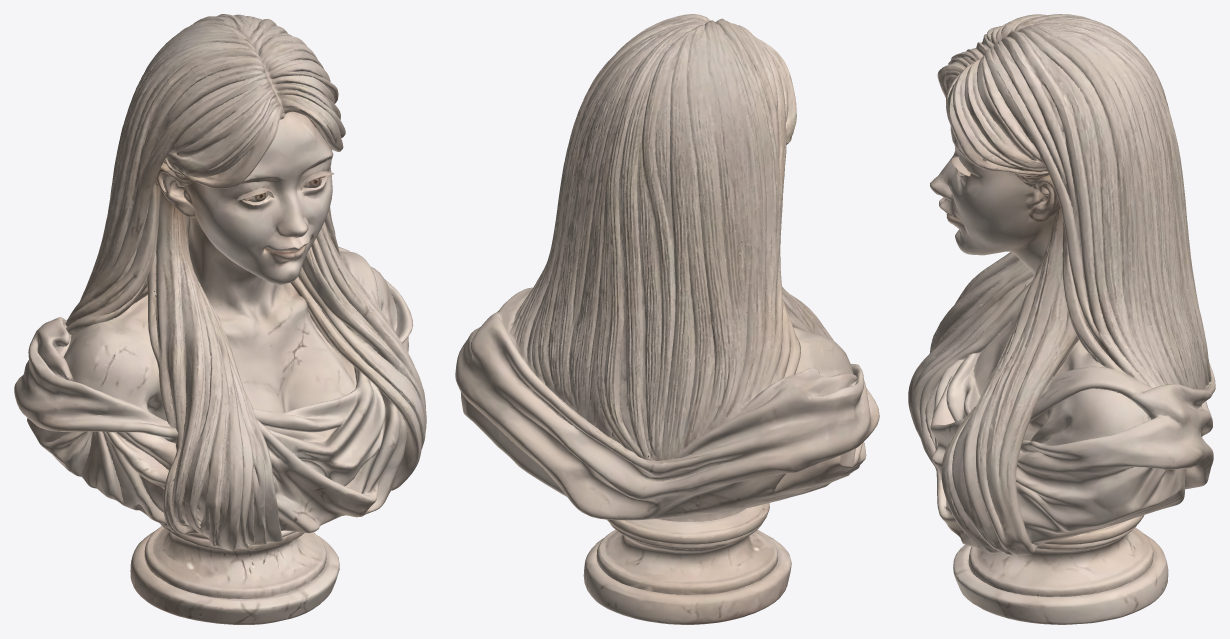
3 views of the same model, side by side, from view 1: azimuth 30°, elevation 25°; view 2: azimuth 150°, elevation 25°; view 3: azimuth 270°, elevation 25° (orthographic).
Parts seen in each view (by area): view 1: model; view 2: model; view 3: model.
Part boxes in pixels (x1,y1,x2,y2): model: [14, 14, 426, 624]; model: [455, 14, 879, 624]; model: [908, 14, 1215, 624].
Size of the model in its own units: 1.36 by 1.9 by 0.9387.
Materials: 1 (1 with a texture image).
